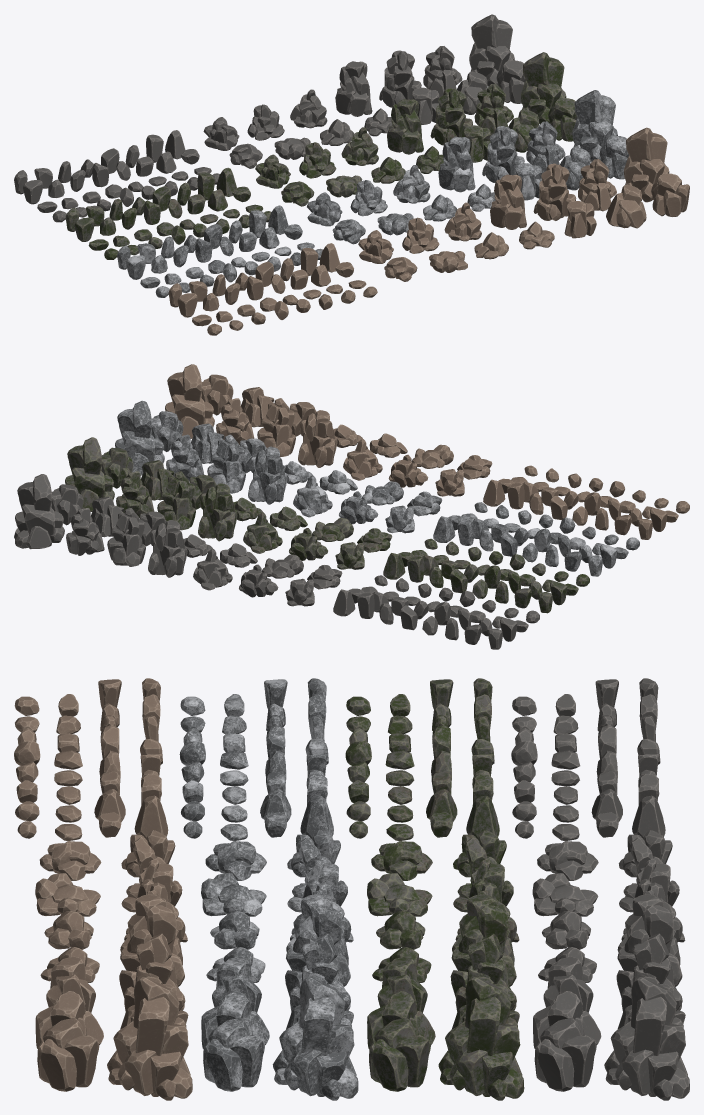
File: Stylised_Rock_Collection.fbx
The picture shows the model from 3 angles, top to bottom: view 1: azimuth 30°, elevation 25°; view 2: azimuth 150°, elevation 25°; view 3: azimuth 270°, elevation 25°; orthographic projection. The views are drawn at different scales.
Parts seen in each view (by area): view 1: Desert_Rock_Group7, Snowy_Rock_Group7, Plain_Rock_Group7, Mossy_Rock_Group7, Snowy_Rock_Group4, Plain_Rock_Group4, Mossy_Rock_Group4, Desert_Rock_Group4, Desert_Rock_Group5, Plain_Rock_Group5, Snowy_Rock_Group5, Mossy_Rock_Group5 (+44 smaller); view 2: Plain_Rock_Group7, Snowy_Rock_Group7, Desert_Rock_Group7, Mossy_Rock_Group7, Mossy_Rock_Group4, Snowy_Rock_Group4, Desert_Rock_Group4, Plain_Rock_Group5, Plain_Rock_Group4, Mossy_Rock_Group5, Desert_Rock_Group5, Snowy_Rock_Group5 (+48 smaller); view 3: Desert_Rock_Group7, Mossy_Rock_Group7, Snowy_Rock_Group7, Plain_Rock_Group7, Desert_Rock_Group14, Plain_Rock_Group14, Snowy_Rock_Group14, Mossy_Rock_Group14, Mossy_Rock_Group5, Desert_Rock_Group5, Plain_Rock_Group5, Snowy_Rock_Group5 (+44 smaller).
Part boxes in pixels (x1,y1,x2,y2): Desert_Rock_Group7: [624, 127, 669, 202]; Snowy_Rock_Group7: [572, 90, 617, 163]; Plain_Rock_Group7: [469, 14, 514, 87]; Mossy_Rock_Group7: [521, 52, 566, 125]; Snowy_Rock_Group4: [438, 136, 475, 192]; Plain_Rock_Group4: [335, 61, 372, 116]; Mossy_Rock_Group4: [387, 99, 423, 154]; Desert_Rock_Group4: [490, 174, 526, 229]; Desert_Rock_Group5: [533, 163, 576, 220]; Plain_Rock_Group5: [379, 50, 421, 107]; Snowy_Rock_Group5: [482, 126, 524, 182]; Mossy_Rock_Group5: [430, 88, 472, 145]; Plain_Rock_Group7: [14, 474, 64, 549]; Snowy_Rock_Group7: [115, 400, 164, 475]; Desert_Rock_Group7: [165, 364, 214, 438]; Mossy_Rock_Group7: [65, 437, 114, 511]; Mossy_Rock_Group4: [198, 483, 237, 541]; Snowy_Rock_Group4: [248, 446, 287, 504]; Desert_Rock_Group4: [298, 410, 337, 467]; Plain_Rock_Group5: [107, 508, 145, 566]; Plain_Rock_Group4: [148, 520, 187, 577]; Mossy_Rock_Group5: [157, 471, 195, 530]; Desert_Rock_Group5: [257, 398, 295, 457]; Snowy_Rock_Group5: [207, 434, 245, 493]; Desert_Rock_Group7: [107, 977, 192, 1100]; Mossy_Rock_Group7: [438, 977, 524, 1100]; Snowy_Rock_Group7: [272, 977, 358, 1100]; Plain_Rock_Group7: [604, 977, 689, 1100]; Desert_Rock_Group14: [37, 1017, 99, 1091]; Plain_Rock_Group14: [534, 1017, 596, 1091]; Snowy_Rock_Group14: [203, 1017, 264, 1091]; Mossy_Rock_Group14: [369, 1017, 430, 1091]; Mossy_Rock_Group5: [450, 929, 516, 1011]; Desert_Rock_Group5: [119, 929, 184, 1011]; Plain_Rock_Group5: [616, 929, 681, 1011]; Snowy_Rock_Group5: [285, 929, 350, 1011].
Bounding box in the file's own units: 2242 × 295 × 1631.
